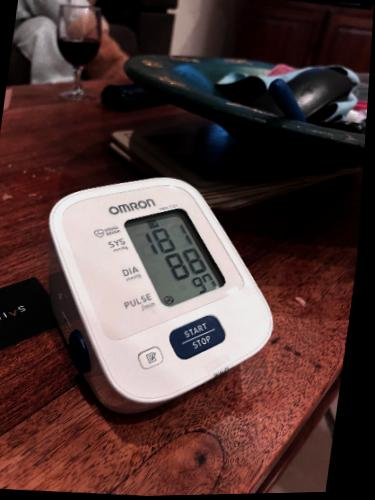bpm: (119, 190, 228, 315)
